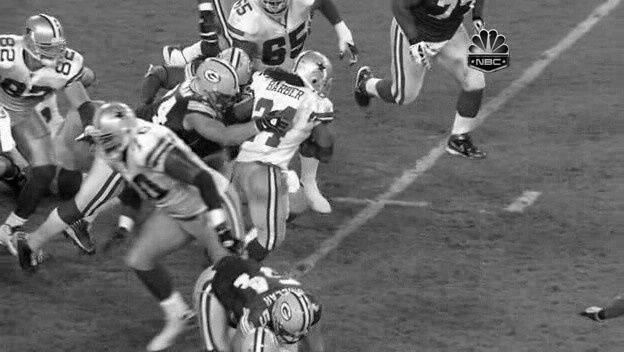person: (297, 52, 331, 96), (296, 52, 330, 96), (298, 52, 332, 96), (297, 51, 331, 95), (297, 53, 331, 97)
target_negative: (413, 61, 563, 190), (462, 164, 527, 323), (265, 283, 410, 326), (480, 198, 565, 247), (347, 323, 591, 326), (466, 307, 559, 308)
